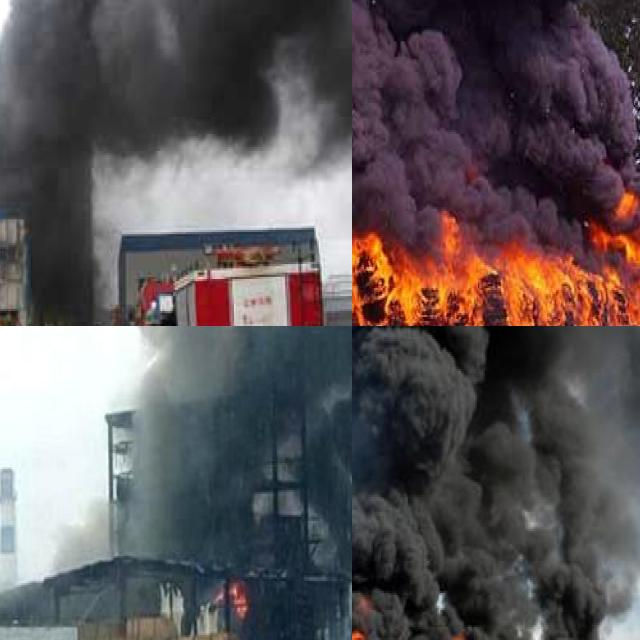fire: (352, 166, 640, 326), (227, 579, 249, 616), (0, 313, 6, 326)
smoke: (0, 0, 352, 306), (352, 326, 640, 640), (55, 326, 352, 590), (352, 0, 638, 205)
